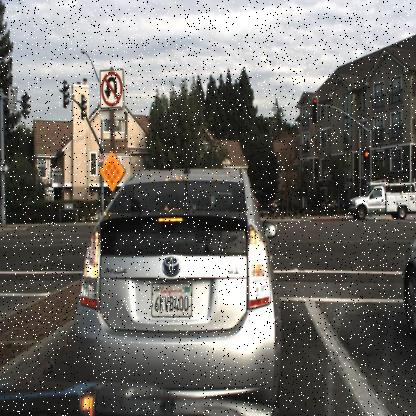car: (71, 165, 282, 398), (341, 167, 415, 228), (387, 203, 415, 353), (319, 190, 346, 219)
trafficLight-Red: (308, 96, 318, 130), (362, 144, 372, 170)
